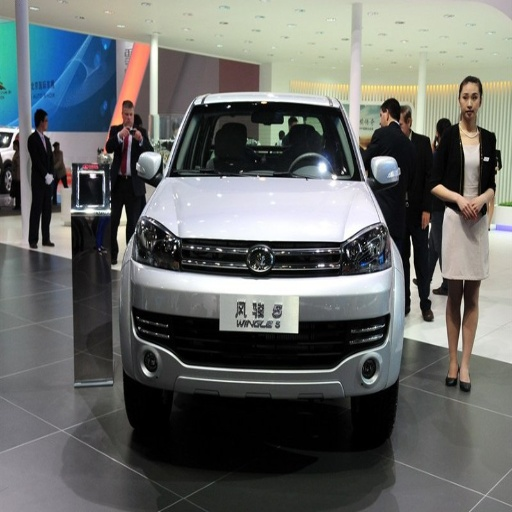front_bumper: (123, 239, 406, 398)
front_right_light: (131, 217, 178, 269)
hood: (150, 177, 378, 242)
